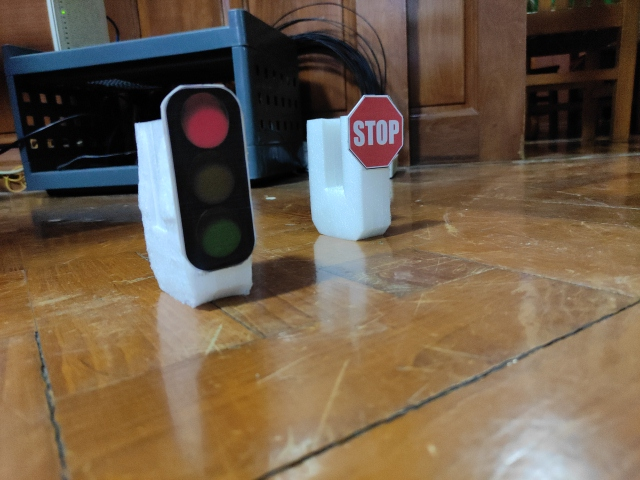Red Traffic Light: (166, 85, 257, 274)
Stop Sign: (348, 95, 404, 169)
